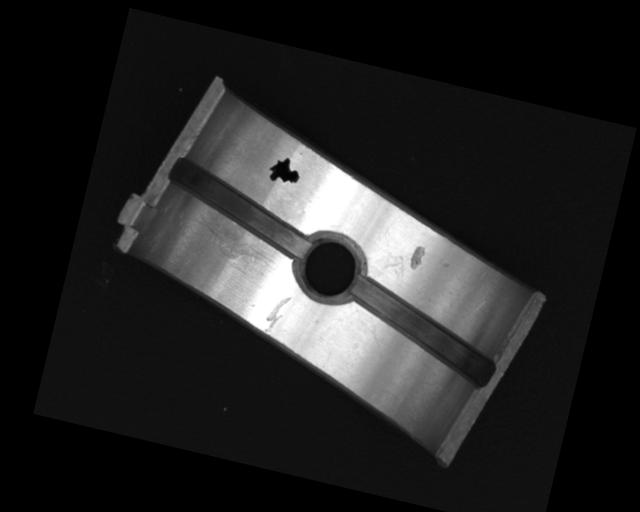blot: (266, 153, 304, 187)
bruise: (408, 243, 427, 272)
gap: (336, 274, 507, 387), (159, 156, 320, 257)
hole: (290, 227, 366, 304)
nick: (262, 292, 292, 337)
scratch: (186, 209, 282, 272)
